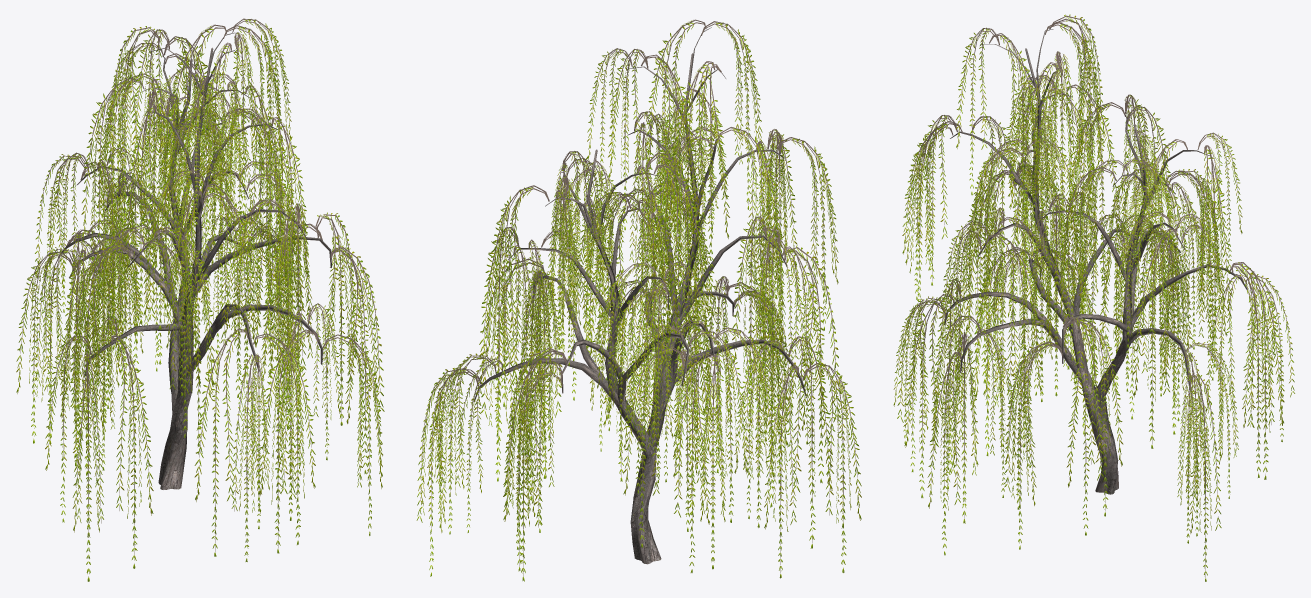
Rendered from willow.glb.
3 views of the same model, side by side, from view 1: azimuth 30°, elevation 25°; view 2: azimuth 150°, elevation 25°; view 3: azimuth 270°, elevation 25° (orthographic). The views are drawn at different scales.
Parts seen in each view (by area): view 1: tree.001; view 2: tree.001; view 3: tree.001.
Part boxes in pixels (box(x1,y1,x2,y2)): tree.001: box(16, 18, 384, 581); tree.001: box(416, 19, 861, 581); tree.001: box(893, 14, 1294, 581).
Bounding box in the file's own units: 241 × 355 × 268.
Materials: 2 (2 with a texture image).
